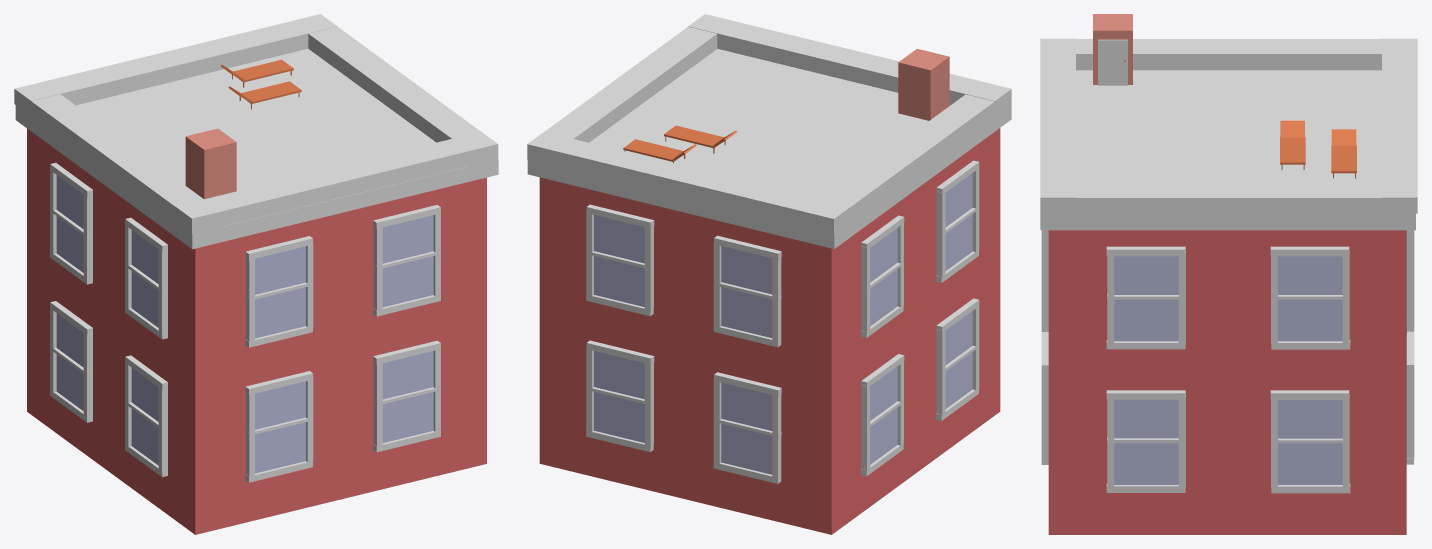
File: shoproof.glb
3 renders of one model, left to right at view 1: azimuth 30°, elevation 25°; view 2: azimuth 150°, elevation 25°; view 3: azimuth 270°, elevation 25°, orthographic. The views are drawn at different scales.
Parts seen in each view (by area): view 1: Cube, Cube.001, Cube.034, Cube.025, Cube.009, Cube.022, Cube.010, Cube.200, Cube.006, Cube.024, Cube.023, Cube.013 (+10 smaller); view 2: Cube, Cube.001, Cube.034, Cube.012, Cube.020, Cube.011, Cube.015, Cube.200, Cube.018, Cube.021, Cube.017, Cube.019 (+10 smaller); view 3: Cube, Cube.001, Cube.034, Cube.002, Cube.003, Cube.004, Cube.007, Cube.014, Cube.005, Cube.008, Cube.016, Cube.200 (+7 smaller).
Part boxes in pixels (<box>): Cube: <box>27,128,486,534</box>; Cube.001: <box>15,49,498,249</box>; Cube.034: <box>14,14,498,233</box>; Cube.025: <box>382,351,433,442</box>; Cube.009: <box>382,215,433,307</box>; Cube.022: <box>255,381,305,473</box>; Cube.010: <box>255,246,305,338</box>; Cube.200: <box>185,128,236,199</box>; Cube.006: <box>373,205,440,316</box>; Cube.024: <box>373,340,440,452</box>; Cube.023: <box>245,371,313,482</box>; Cube.013: <box>245,236,313,347</box>; Cube: <box>539,128,1000,534</box>; Cube.001: <box>527,49,1011,248</box>; Cube.034: <box>527,14,1011,234</box>; Cube.012: <box>721,246,772,337</box>; Cube.020: <box>721,382,772,474</box>; Cube.011: <box>594,215,644,306</box>; Cube.015: <box>594,351,644,442</box>; Cube.200: <box>898,48,949,120</box>; Cube.018: <box>713,235,781,347</box>; Cube.021: <box>713,372,781,483</box>; Cube.017: <box>586,204,654,316</box>; Cube.019: <box>586,340,654,451</box>; Cube: <box>1048,230,1406,534</box>; Cube.001: <box>1040,70,1415,230</box>; Cube.034: <box>1040,38,1417,213</box>; Cube.002: <box>1114,256,1178,341</box>; Cube.003: <box>1278,256,1342,341</box>; Cube.004: <box>1114,399,1178,484</box>; Cube.007: <box>1278,400,1342,484</box>; Cube.014: <box>1106,246,1185,349</box>; Cube.005: <box>1106,390,1185,492</box>; Cube.008: <box>1270,390,1350,493</box>; Cube.016: <box>1270,246,1350,349</box>; Cube.200: <box>1093,14,1132,84</box>.
Size of the model in its own units: 2.1 by 2.37 by 2.11.
